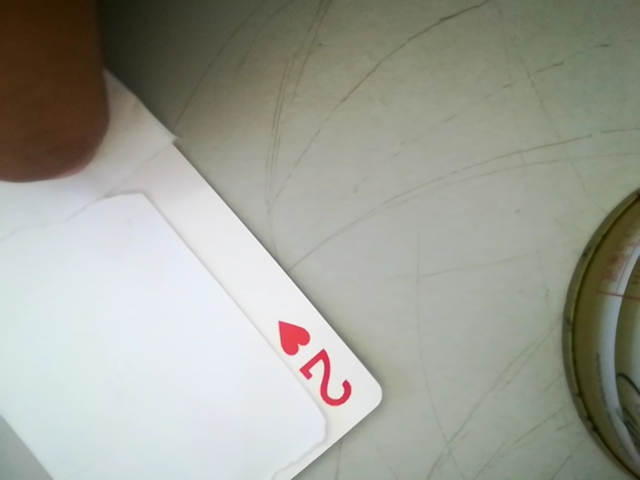hx 2: (270, 312, 362, 422)
